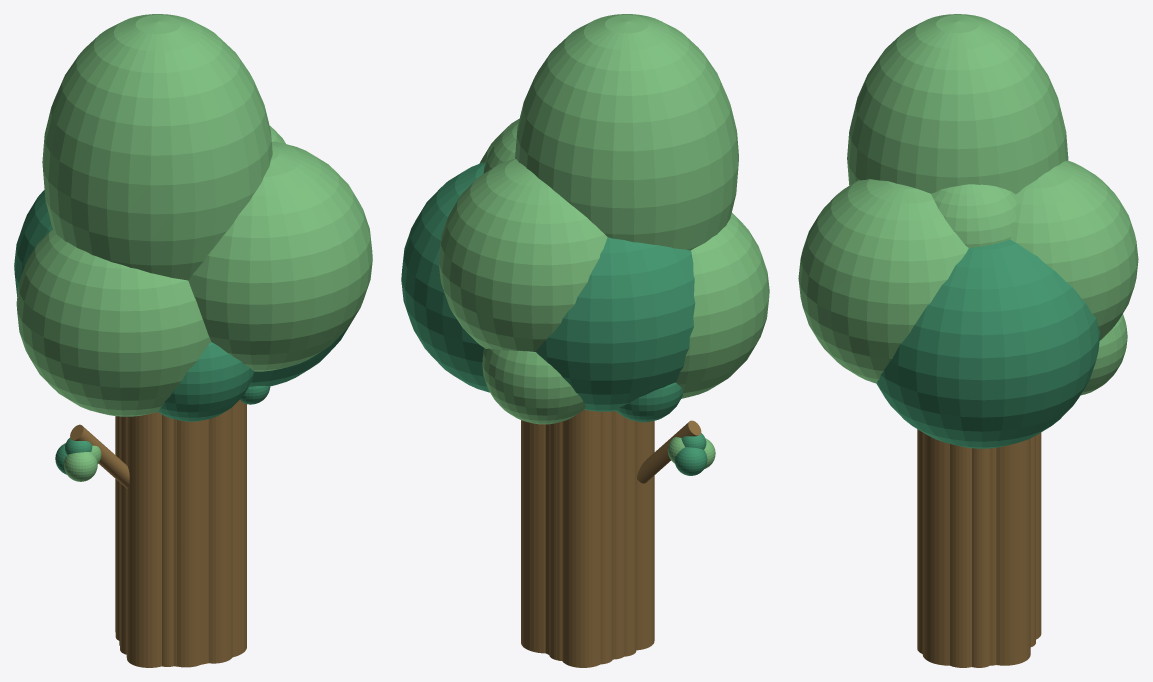
The model's file is arbolito2.gltf.
3 renders of one model, left to right at view 1: azimuth 30°, elevation 25°; view 2: azimuth 150°, elevation 25°; view 3: azimuth 270°, elevation 25°, orthographic. The views are drawn at different scales.
Visible parts, largest first — view 1: Mesh_Mesh_head_geo.001_lambert2SG.001; view 2: Mesh_Mesh_head_geo.001_lambert2SG.001; view 3: Mesh_Mesh_head_geo.001_lambert2SG.001.
Boxes of the visible parts, x1=… form: Mesh_Mesh_head_geo.001_lambert2SG.001: x1=14, y1=14, x2=372, y2=667; Mesh_Mesh_head_geo.001_lambert2SG.001: x1=401, y1=14, x2=769, y2=667; Mesh_Mesh_head_geo.001_lambert2SG.001: x1=798, y1=14, x2=1138, y2=667.
Size of the model in its own units: 68 by 124 by 63.
